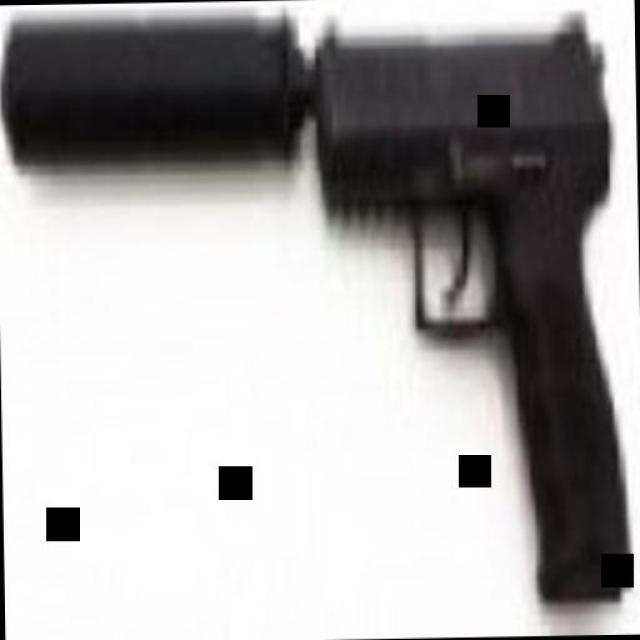gun: (1, 4, 628, 618)
